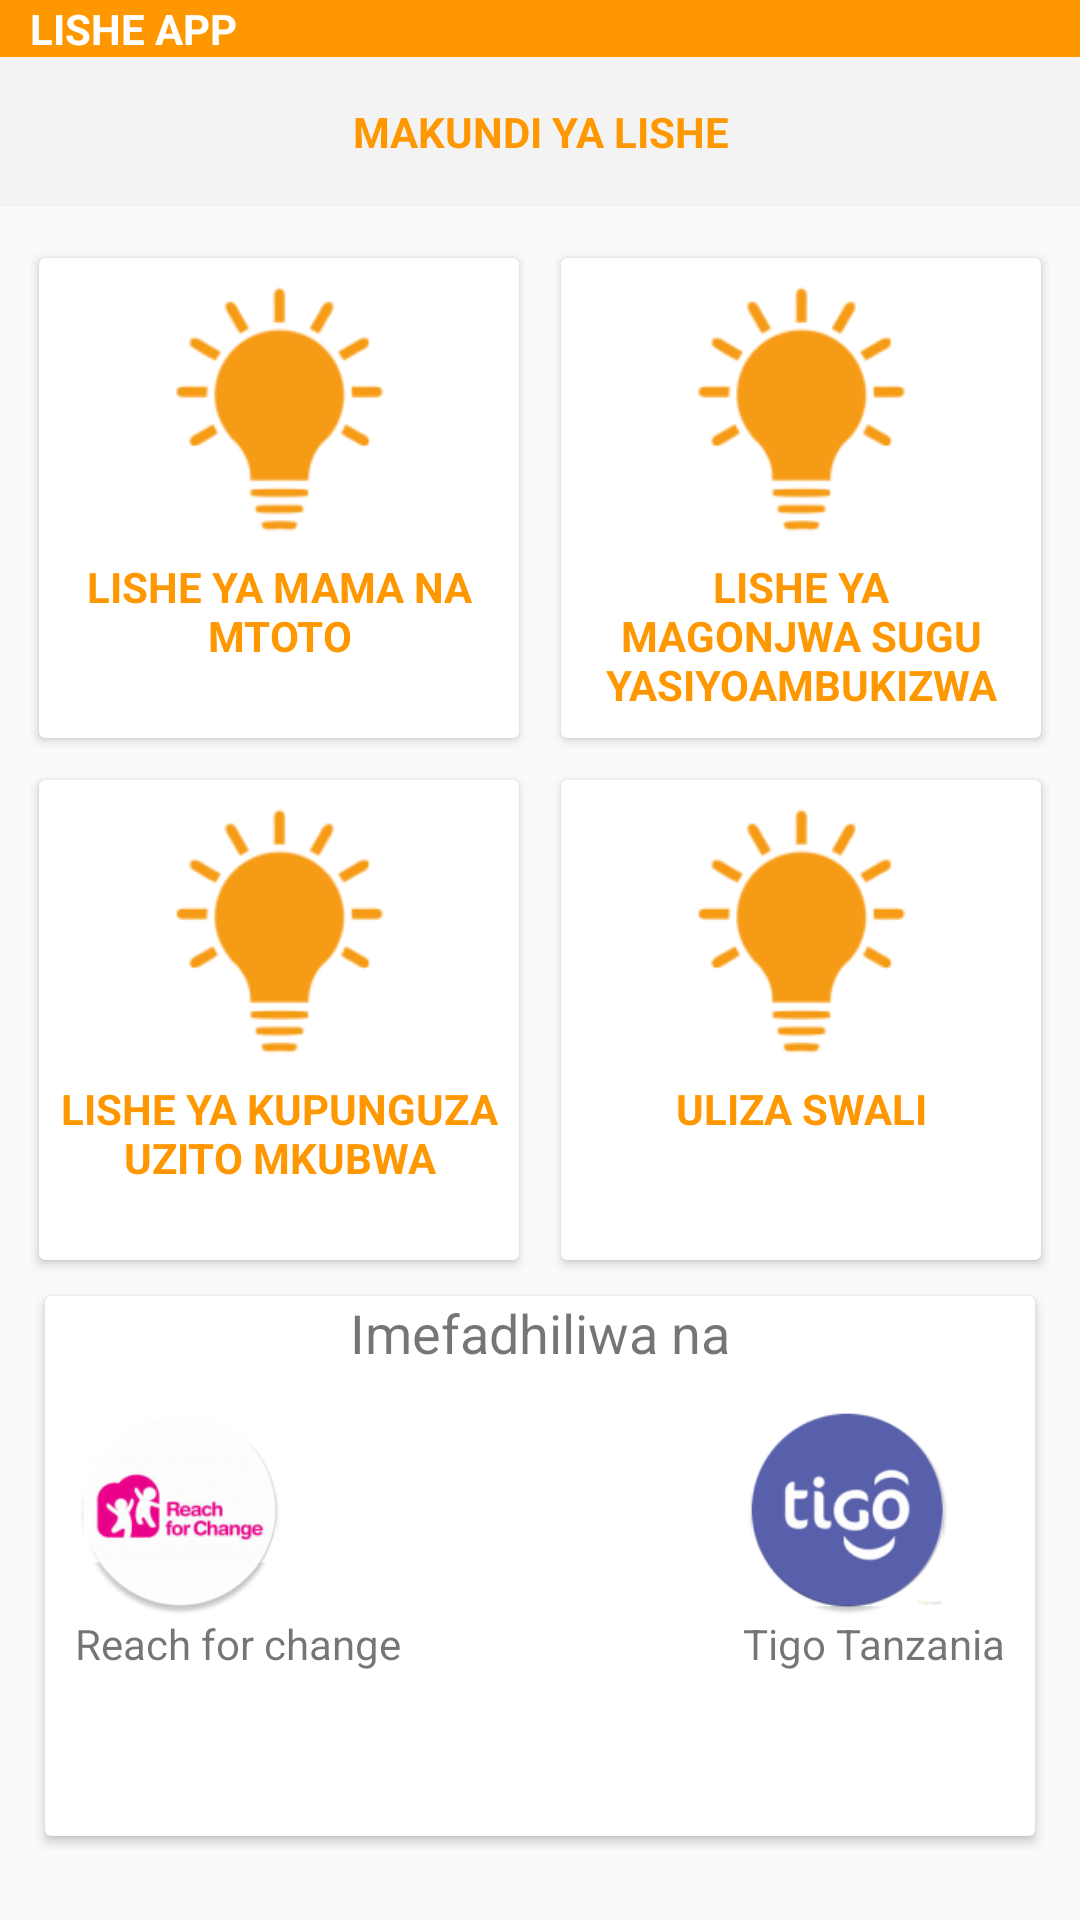

Icon bounding boxes for this 1080 × 1920 phone screenshot, format rect(x1, y1, x2, y2):
bulb on: rect(176, 287, 384, 531), rect(698, 287, 906, 531), rect(176, 809, 384, 1053), rect(698, 809, 906, 1053)
